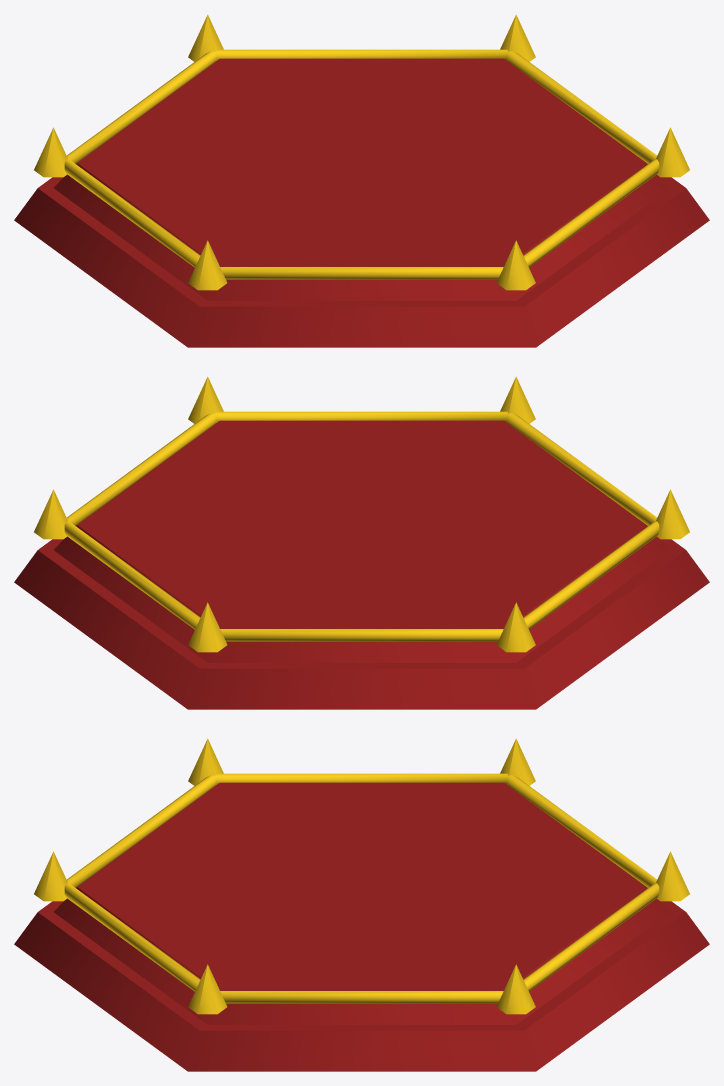
File: obsidian_crown.glb
The picture shows the model from 3 angles, top to bottom: view 1: azimuth 30°, elevation 25°; view 2: azimuth 150°, elevation 25°; view 3: azimuth 270°, elevation 25°; orthographic projection.
Parts seen in each view (by area): view 1: plinth_top, plinth_base, plinth_trim_ring, corner_stud_1, corner_stud_2, corner_stud_0, corner_stud_3, corner_stud_4, corner_stud_5; view 2: plinth_top, plinth_base, plinth_trim_ring, corner_stud_3, corner_stud_4, corner_stud_2, corner_stud_5, corner_stud_0, corner_stud_1; view 3: plinth_top, plinth_base, plinth_trim_ring, corner_stud_0, corner_stud_5, corner_stud_1, corner_stud_4, corner_stud_2, corner_stud_3.
Boxes of the visible parts, x1,y1,x2,y2 form: plinth_top: (54,58,669,300); plinth_base: (14,177,709,347); plinth_trim_ring: (64,49,659,279); corner_stud_1: (496,240,535,290); corner_stud_2: (188,240,227,290); corner_stud_0: (656,127,689,177); corner_stud_3: (34,127,67,177); corner_stud_4: (188,14,223,61); corner_stud_5: (500,14,535,61); plinth_top: (54,420,669,662); plinth_base: (14,539,709,709); plinth_trim_ring: (64,411,659,641); corner_stud_3: (496,602,535,652); corner_stud_4: (188,602,227,652); corner_stud_2: (656,489,689,539); corner_stud_5: (34,489,67,539); corner_stud_0: (188,376,223,423); corner_stud_1: (500,376,535,423); plinth_top: (54,782,669,1024); plinth_base: (14,901,709,1071); plinth_trim_ring: (64,773,659,1003); corner_stud_0: (188,964,227,1014); corner_stud_5: (496,964,535,1014); corner_stud_1: (34,851,67,901); corner_stud_4: (656,851,689,901); corner_stud_2: (188,738,223,785); corner_stud_3: (500,738,535,785).
Bounding box in the file's own units: 1.52 × 0.26 × 1.76.
